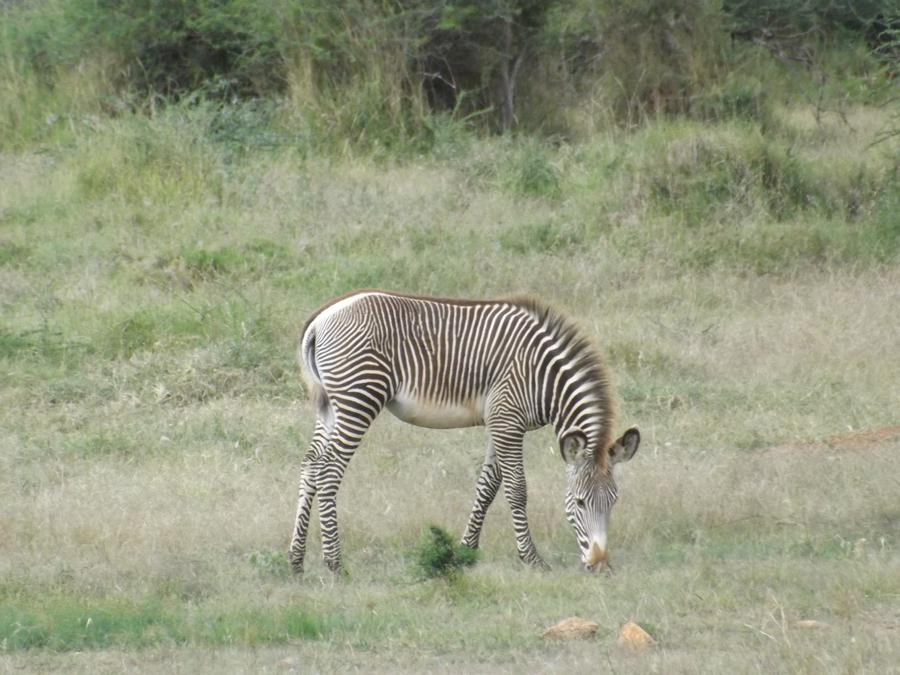zebra_grevys: (294, 282, 536, 431)
